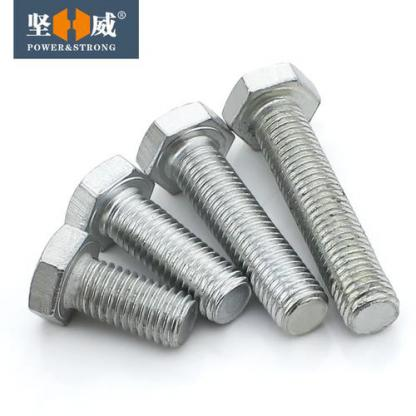FOD: (221, 61, 401, 336), (134, 99, 330, 338), (64, 154, 252, 325), (27, 220, 201, 351)
